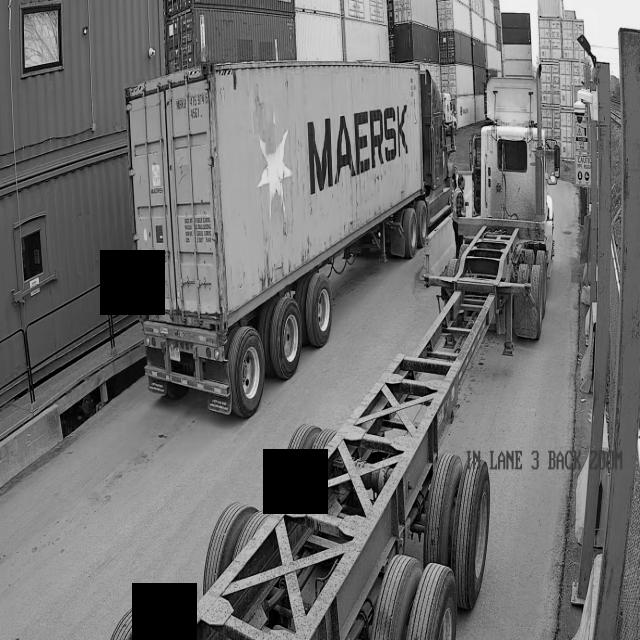driver: (452, 175, 465, 257)
truck_with_container: (125, 61, 454, 417)
truck_without_container: (111, 78, 560, 640)
